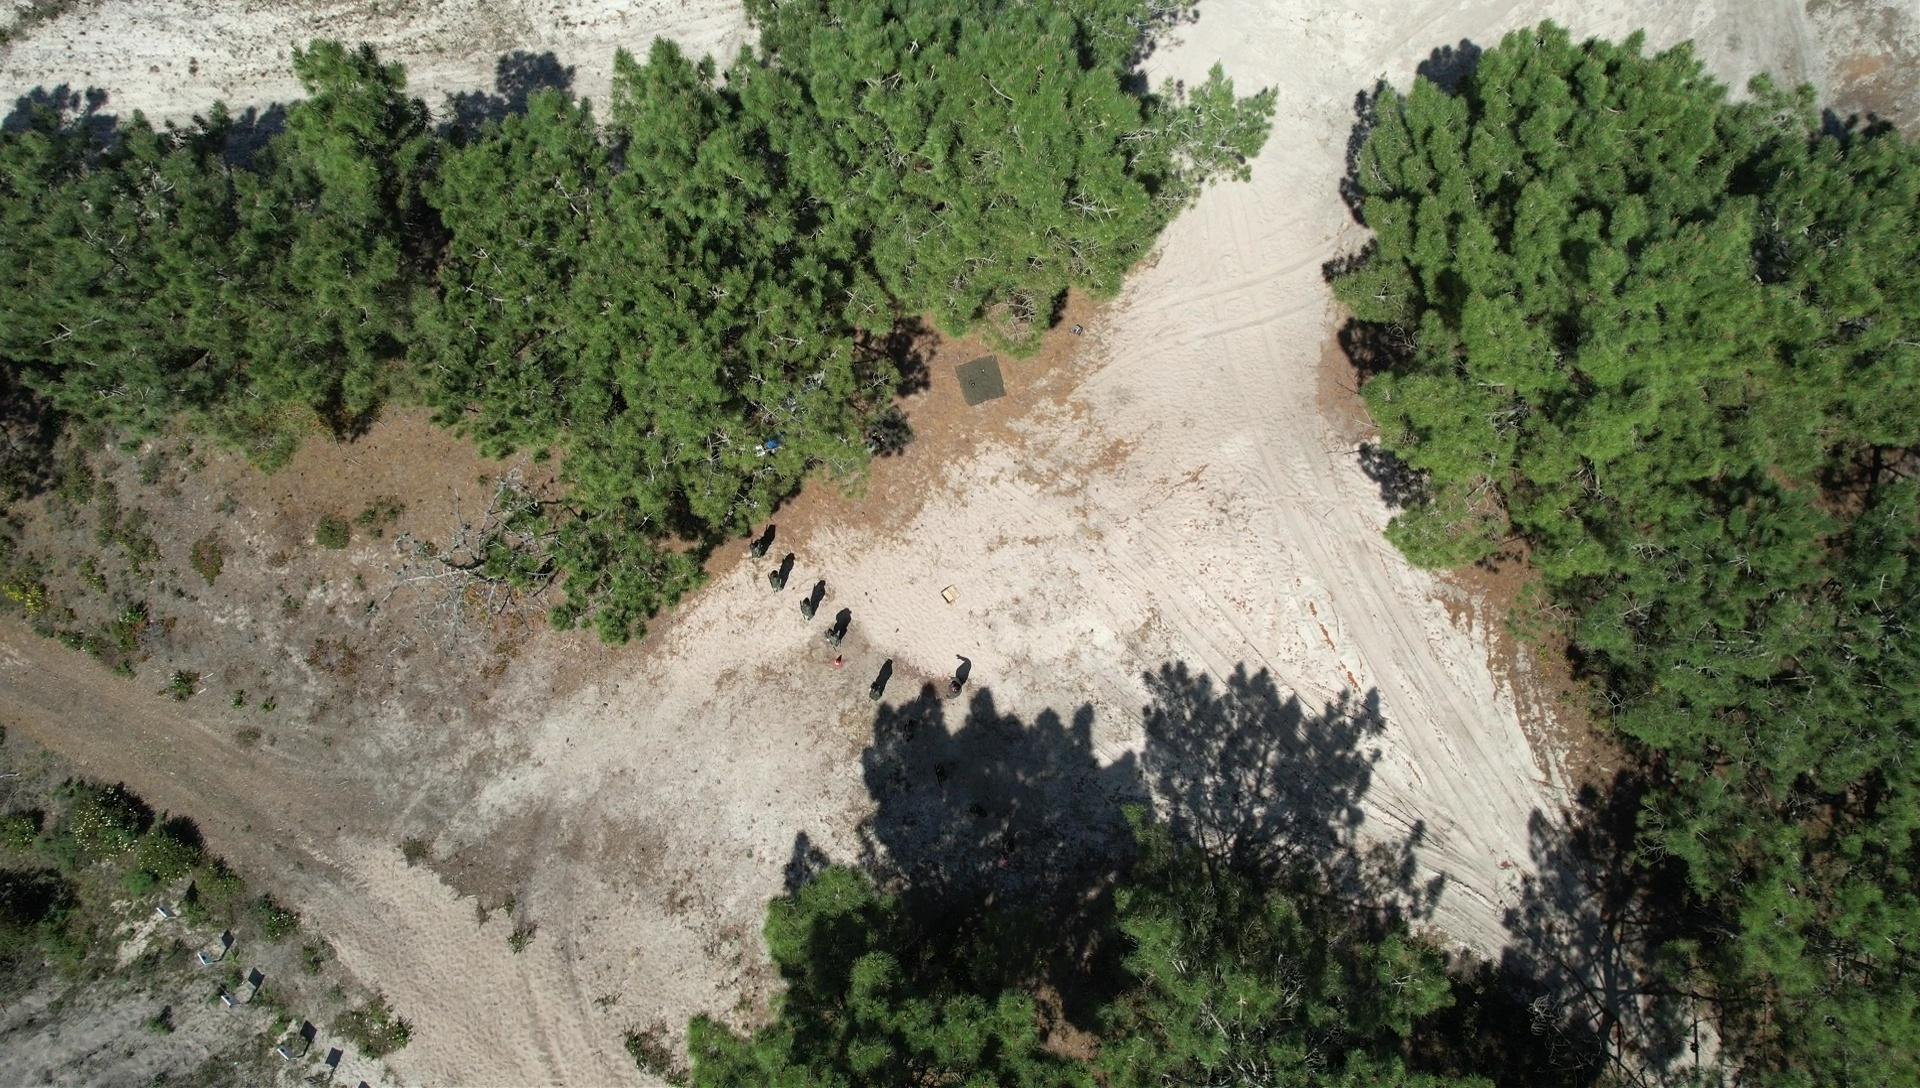Soldier: (822, 624, 851, 651), (902, 716, 924, 750), (938, 680, 968, 706), (769, 566, 791, 593), (934, 760, 953, 790), (865, 682, 890, 706), (968, 801, 992, 826), (748, 537, 770, 560), (800, 600, 818, 621)
